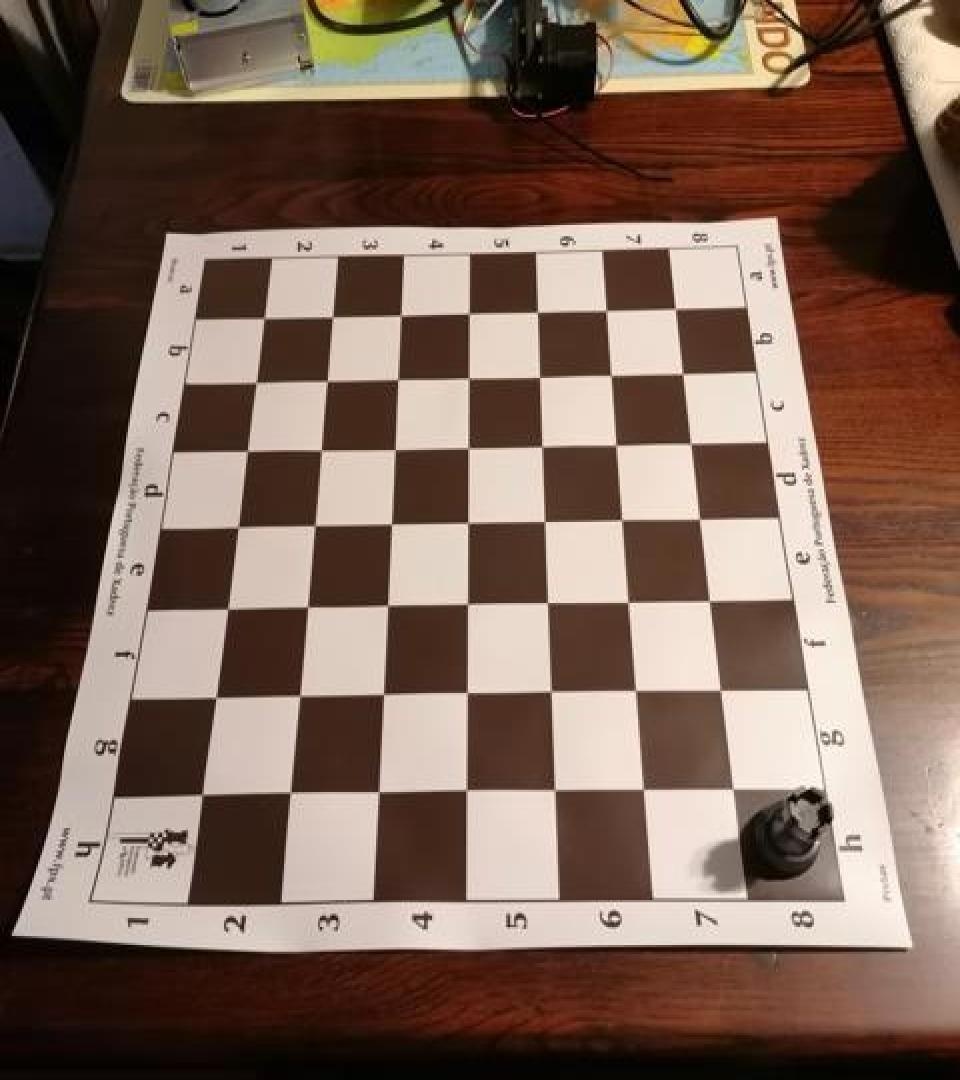xcorner: (447, 588, 479, 625), (367, 588, 399, 625), (715, 777, 747, 814), (624, 777, 656, 814), (534, 777, 566, 814), (444, 777, 476, 814), (356, 777, 388, 814), (660, 290, 692, 326), (590, 292, 622, 328), (521, 294, 553, 330), (452, 296, 484, 332), (384, 298, 416, 334), (316, 300, 348, 336), (249, 302, 281, 338), (668, 356, 700, 392), (595, 356, 627, 392), (523, 359, 555, 395), (451, 360, 483, 396), (380, 362, 412, 398), (310, 364, 342, 400), (240, 366, 272, 402), (676, 425, 708, 461), (600, 428, 632, 464), (524, 428, 556, 464), (450, 430, 482, 466), (376, 432, 408, 468), (303, 433, 335, 469), (230, 434, 262, 470), (684, 502, 716, 538), (605, 503, 637, 539), (526, 504, 558, 540), (449, 506, 481, 542), (372, 508, 404, 544), (295, 508, 327, 544), (220, 510, 252, 546), (694, 585, 726, 621), (611, 586, 643, 622), (529, 587, 561, 623), (287, 590, 319, 626), (208, 590, 240, 626), (704, 677, 736, 713), (617, 677, 649, 713), (531, 677, 563, 713), (446, 678, 478, 714), (362, 678, 394, 714), (278, 678, 310, 714), (196, 680, 228, 716), (269, 776, 301, 812), (182, 776, 214, 812)
